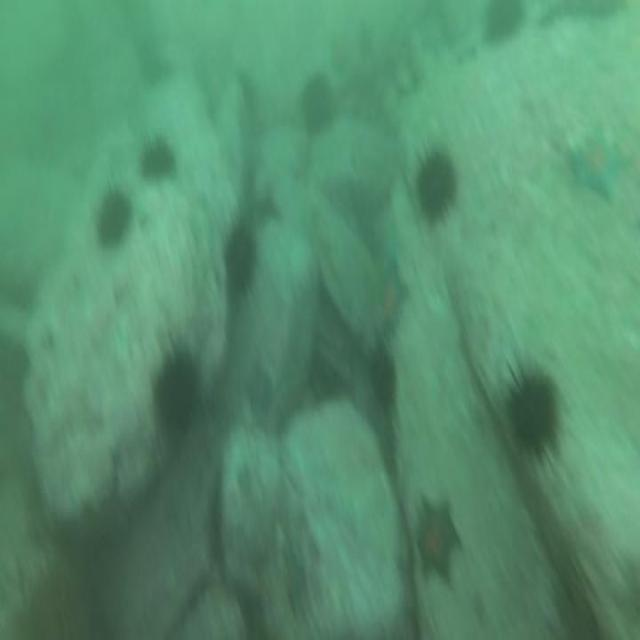echinus: (500, 354, 562, 468), (150, 342, 203, 448), (411, 140, 458, 236), (221, 216, 264, 305), (297, 66, 337, 142), (92, 182, 134, 253), (364, 338, 401, 414), (481, 0, 526, 51), (136, 133, 177, 186)
starfish: (563, 120, 633, 202), (410, 490, 463, 592), (373, 254, 412, 335), (244, 362, 276, 419), (329, 30, 355, 81), (352, 18, 377, 64)
